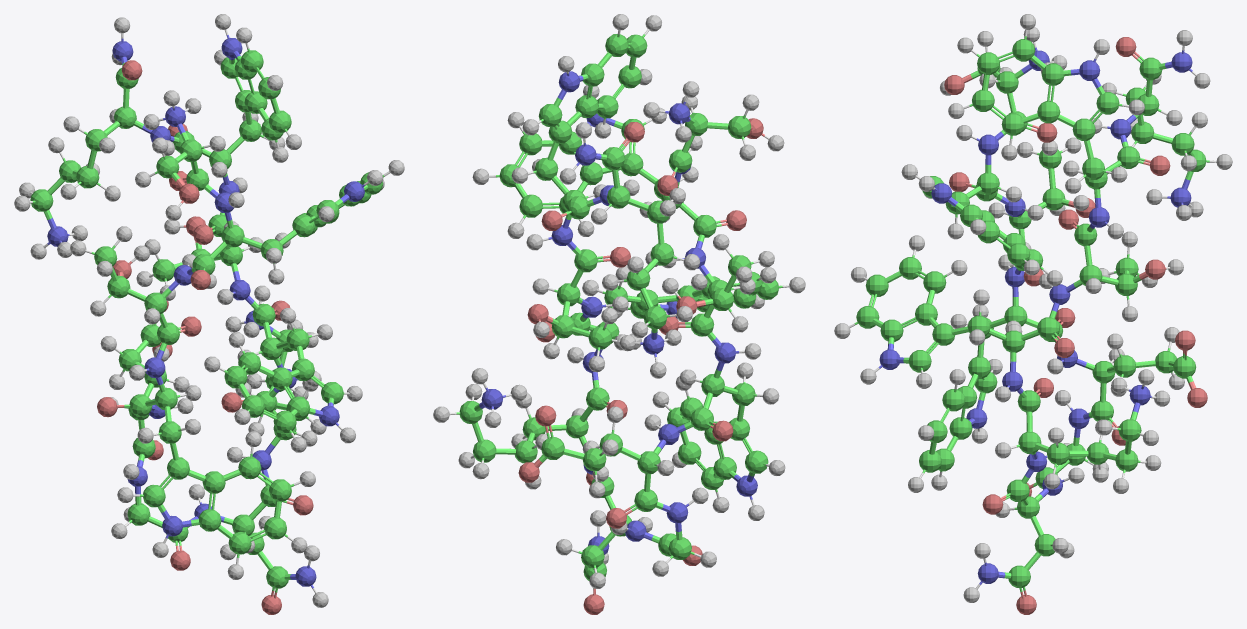
Rendered from 1le0__ball_and_stick__default.glb.
The picture shows the model from 3 angles, left to right: view 1: azimuth 30°, elevation 25°; view 2: azimuth 150°, elevation 25°; view 3: azimuth 270°, elevation 25°; orthographic projection. The views are drawn at different scales.
Parts seen in each view (by area): view 1: Renderer Node; view 2: Renderer Node; view 3: Renderer Node.
Part boxes in pixels (x1,y1,x2,y2): Renderer Node: (14,14,404,614); Renderer Node: (433,14,805,614); Renderer Node: (834,14,1232,614).
Size of the model in its own units: 12.26 by 23.8 by 14.66.
